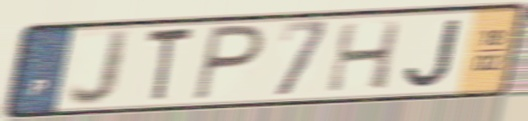7: (274, 18, 330, 101)
H: (323, 19, 405, 95)
J: (65, 27, 134, 110), (403, 16, 465, 90)
P: (190, 22, 268, 104)
T: (144, 24, 198, 106)
